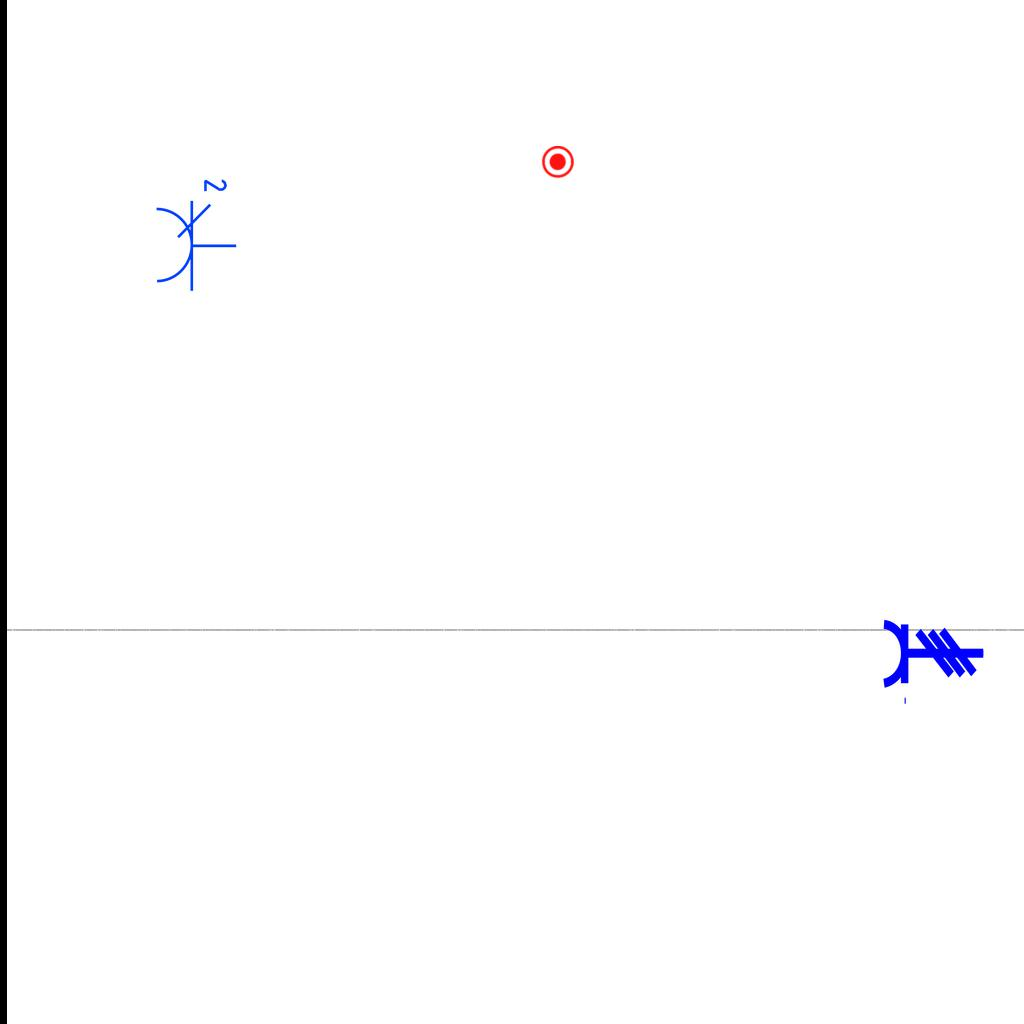CEE_Drehstrom_Steckdose_16_32_A: (881, 617, 985, 707)
Schukosteckdose_mehrfach: (150, 172, 238, 293)
Taster: (541, 146, 574, 179)
